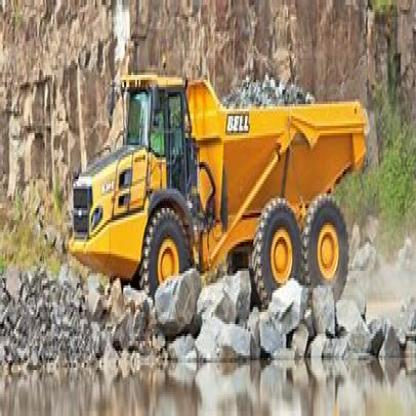dump_truck: (72, 53, 376, 310)
